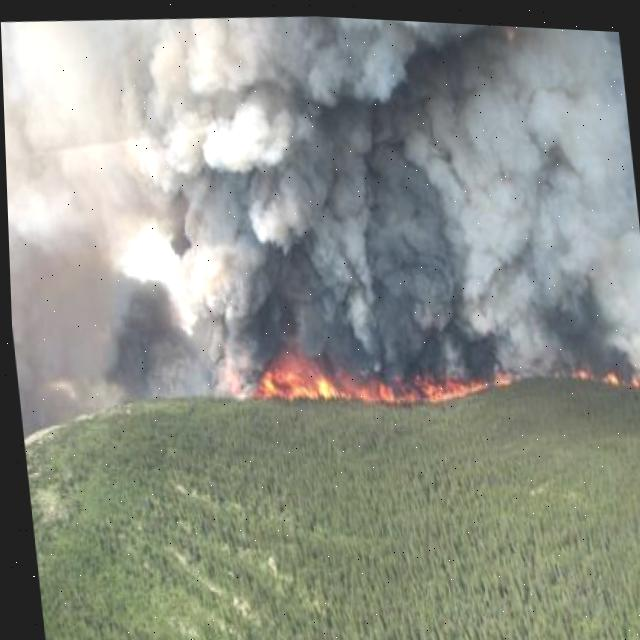fire: (257, 347, 495, 400)
smoke: (1, 13, 640, 438)
